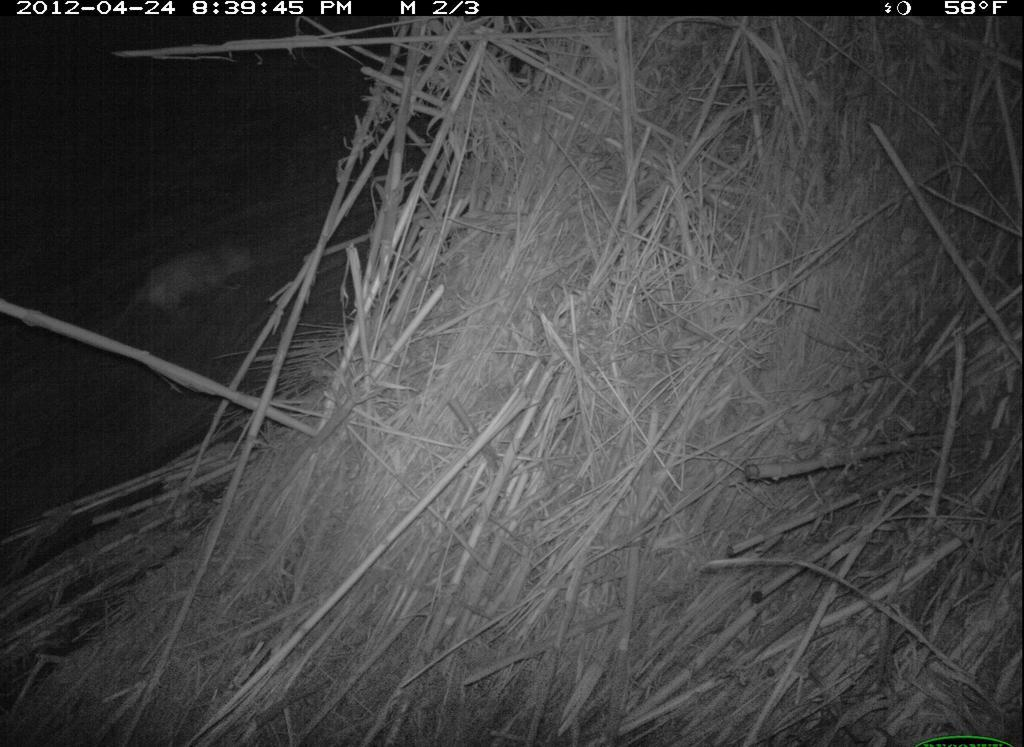opossum: (112, 226, 269, 346)
